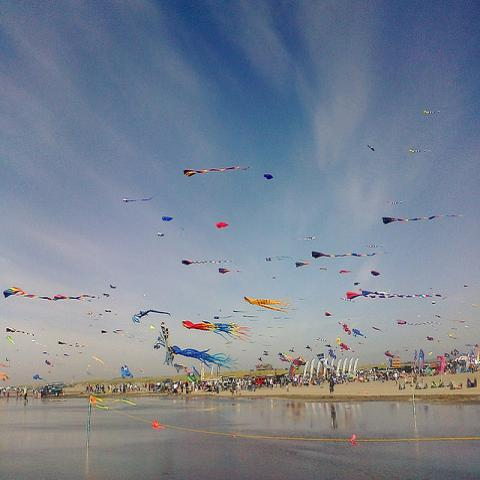car: (36, 386, 62, 398), (256, 377, 266, 388)
